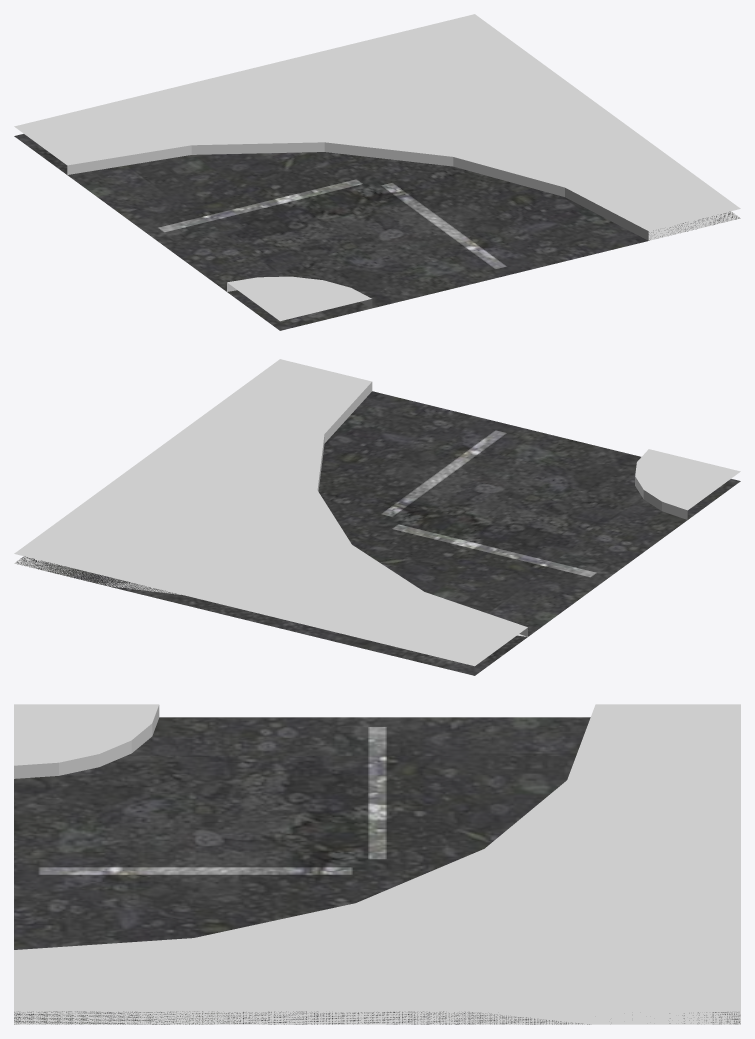
The model's file is road3.fbx.
3 views of the same model, one above another, from view 1: azimuth 30°, elevation 25°; view 2: azimuth 150°, elevation 25°; view 3: azimuth 270°, elevation 25° (orthographic). The views are drawn at different scales.
Visible parts, largest first — view 1: Plane.002; view 2: Plane.002; view 3: Plane.002.
Boxes of the visible parts, <box> form: Plane.002: <box>14,14,740,330</box>; Plane.002: <box>14,359,740,675</box>; Plane.002: <box>14,704,740,1024</box>.
Size of the model in its own units: 1000 by 20 by 1000.
